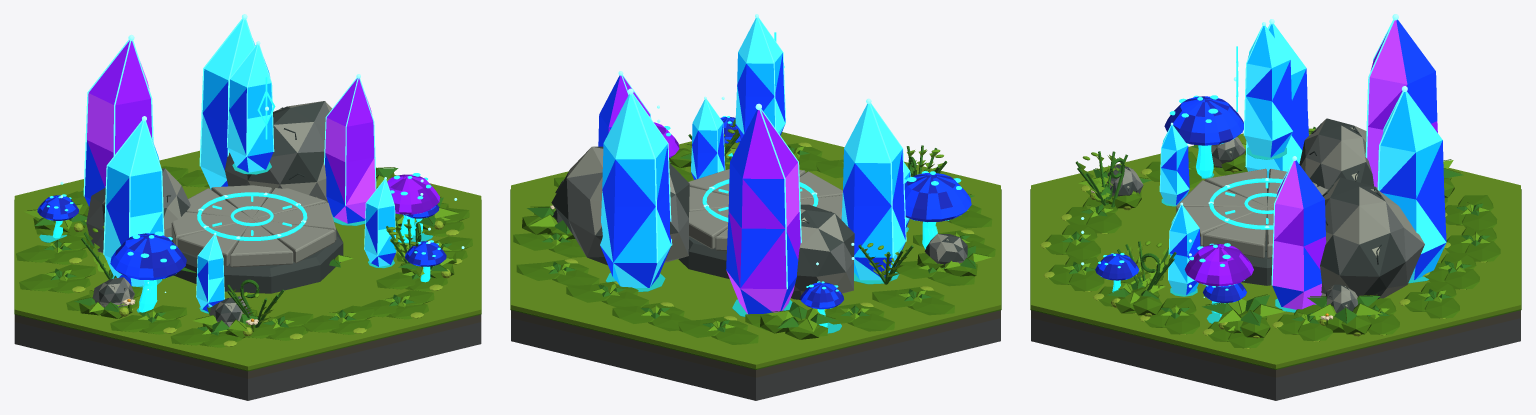
File: hex_crystal_shrine.glb
The picture shows the model from 3 angles, left to right: view 1: azimuth 30°, elevation 25°; view 2: azimuth 150°, elevation 25°; view 3: azimuth 270°, elevation 25°; orthographic projection. The views are drawn at different scales.
Visible parts, largest first — view 1: Standard hex meadow top.001, Standard hex stone foundation.001, Faceted magical crystal.004, Faceted magical crystal.006, Faceted magical crystal.002, Angular mossy forest boulder.002, Faceted magical crystal.001, Faceted magical crystal.005, Standard hex earth layer.001, Shrine stone pedestal.001, Broad faceted mushroom cap.001, Faceted magical crystal.007 (+25 smaller); view 2: Standard hex meadow top.001, Faceted magical crystal.004, Standard hex stone foundation.001, Faceted magical crystal.005, Faceted magical crystal.002, Angular mossy forest boulder.002, Angular mossy forest boulder.001, Faceted magical crystal.001, Standard hex earth layer.001, Broad faceted mushroom cap.001, Faceted magical crystal.007, Shrine stone pedestal.001 (+26 smaller); view 3: Standard hex meadow top.001, Standard hex stone foundation.001, Angular mossy forest boulder.002, Faceted magical crystal.005, Faceted magical crystal.006, Faceted magical crystal.004, Faceted magical crystal.001, Standard hex earth layer.001, Angular mossy forest boulder.001, Broad faceted mushroom cap.001, Faceted magical crystal.002, Broad faceted mushroom cap.003 (+27 smaller).
Part boxes in pixels (x1,y1,x2,y2): Standard hex meadow top.001: (14,150,481,370); Standard hex stone foundation.001: (14,322,481,400); Faceted magical crystal.004: (84,40,151,206); Faceted magical crystal.006: (325,78,375,223); Faceted magical crystal.002: (104,121,162,286); Angular mossy forest boulder.002: (225,101,332,202); Faceted magical crystal.001: (227,45,273,172); Faceted magical crystal.005: (200,20,255,189); Standard hex earth layer.001: (14,314,481,378); Shrine stone pedestal.001: (171,228,343,293); Broad faceted mushroom cap.001: (110,233,186,280); Faceted magical crystal.007: (364,180,395,266); Standard hex meadow top.001: (511,132,1000,368); Faceted magical crystal.004: (726,109,800,314); Standard hex stone foundation.001: (511,318,1000,400); Faceted magical crystal.005: (600,94,671,287); Faceted magical crystal.002: (841,104,905,280); Angular mossy forest boulder.002: (551,146,689,265); Angular mossy forest boulder.001: (791,204,854,299); Faceted magical crystal.001: (735,18,785,138); Standard hex earth layer.001: (511,310,1000,377); Broad faceted mushroom cap.001: (904,173,971,222); Faceted magical crystal.007: (691,99,724,179); Shrine stone pedestal.001: (678,236,729,278); Standard hex meadow top.001: (1031,133,1520,368); Standard hex stone foundation.001: (1031,318,1520,400); Angular mossy forest boulder.002: (1320,177,1424,299); Faceted magical crystal.005: (1379,91,1446,280); Faceted magical crystal.006: (1272,160,1326,309); Faceted magical crystal.004: (1367,19,1437,187); Faceted magical crystal.001: (1244,25,1293,157); Standard hex earth layer.001: (1031,310,1520,377); Angular mossy forest boulder.001: (1299,118,1373,189); Broad faceted mushroom cap.001: (1164,96,1243,145); Faceted magical crystal.002: (1246,24,1308,177); Broad faceted mushroom cap.003: (1184,244,1253,286).
Size of the model in its own units: 5.11 by 2.6 by 4.42.
